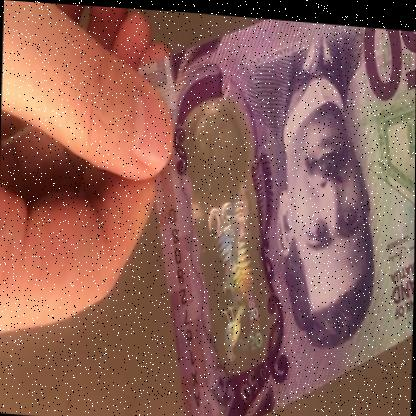50F: (194, 109, 268, 364)
